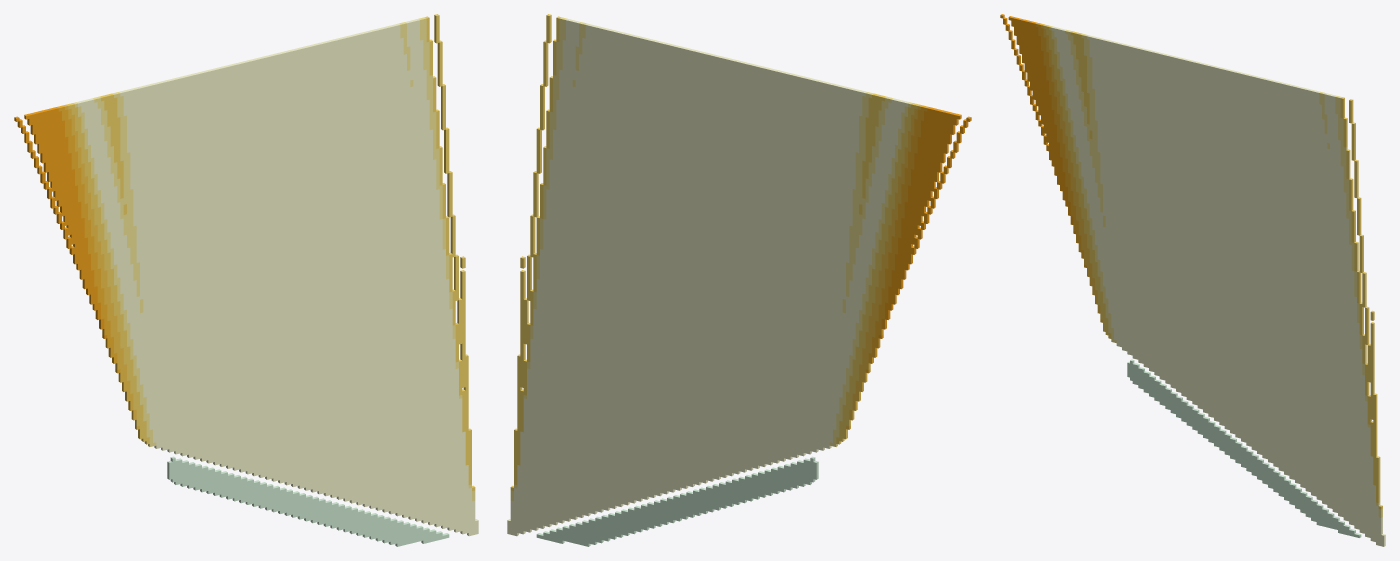
The model's file is Fight_721_2_06_fx.obj.
3 views of the same model, side by side, from view 1: azimuth 30°, elevation 25°; view 2: azimuth 150°, elevation 25°; view 3: azimuth 330°, elevation 25° (orthographic). The views are drawn at different scales.
Size of the model in its own units: 14.2 by 15.5 by 0.1.
